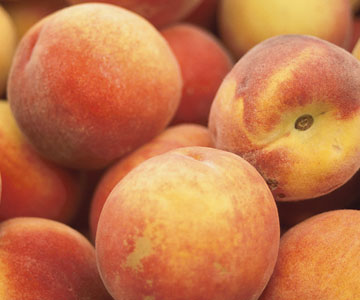peach: (105, 150, 271, 300), (213, 33, 358, 191), (15, 9, 166, 150), (5, 126, 92, 220), (1, 220, 96, 298), (170, 22, 233, 127), (281, 213, 360, 296), (218, 1, 354, 32)
